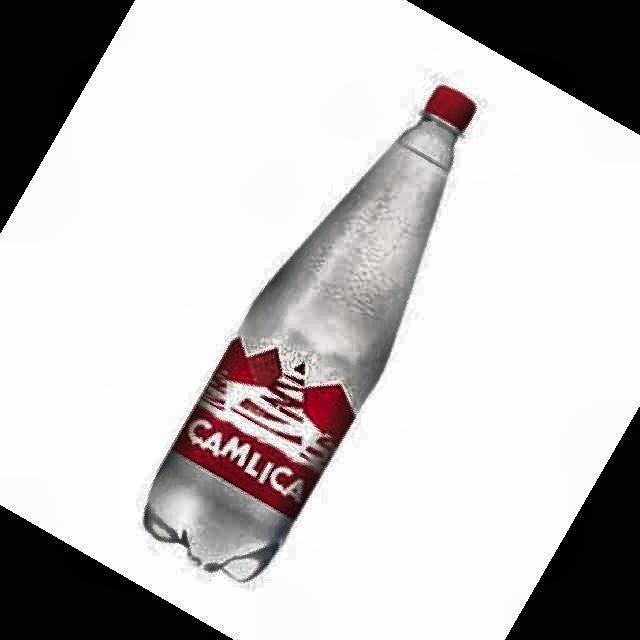plastic: (145, 86, 475, 581)
